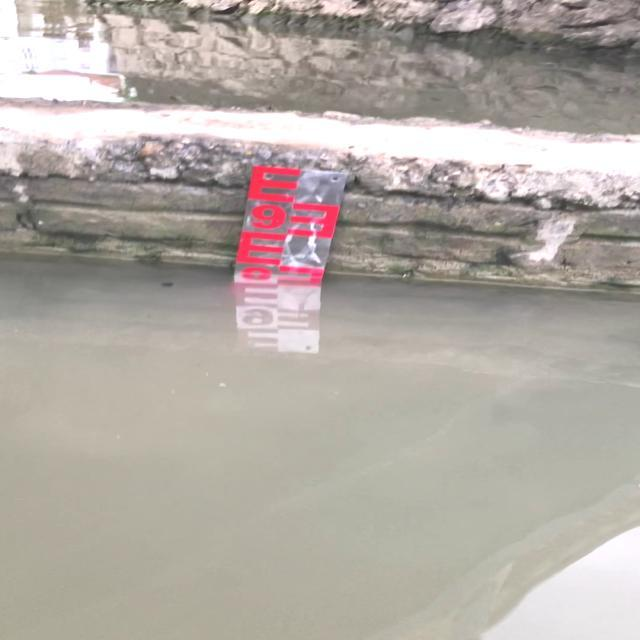ruler: (230, 154, 357, 285)
value: (245, 197, 293, 235)
